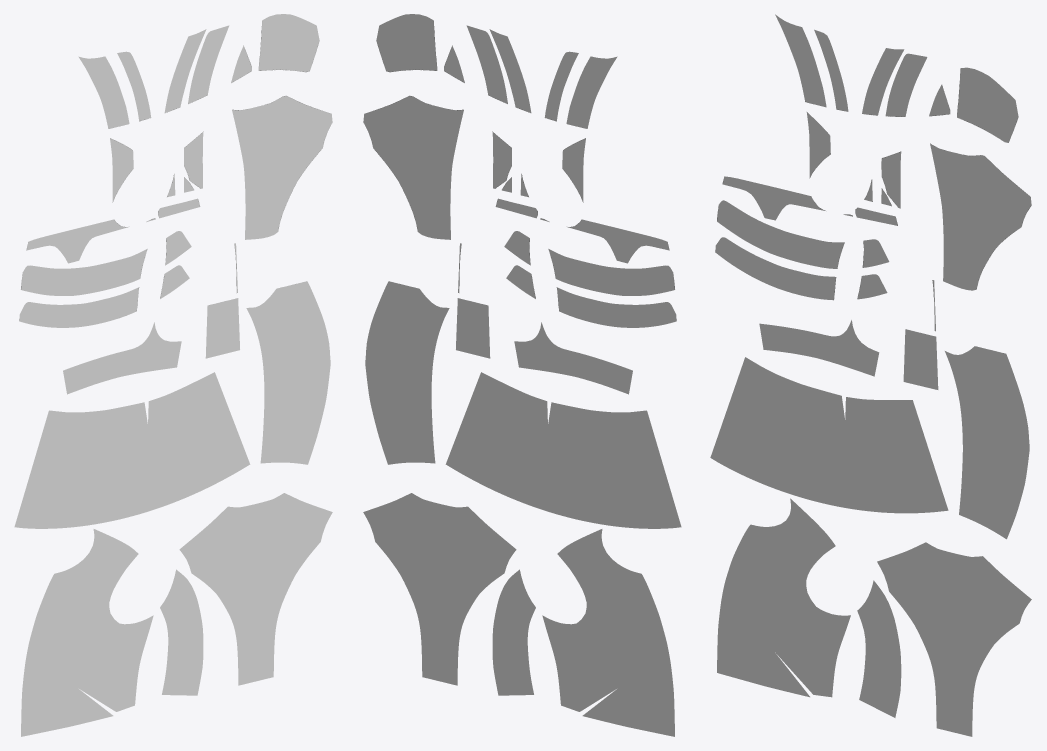
3 renders of one model, left to right at view 1: azimuth 30°, elevation 25°; view 2: azimuth 150°, elevation 25°; view 3: azimuth 330°, elevation 25°, orthographic.
Parts seen in each view (by area): view 1: Pattern_88784, Pattern_67253, Pattern_81361, Pattern_96122, Pattern_91243, Pattern_78007, Pattern_101766, Pattern_111948, Pattern_86260, Pattern_125434, Pattern_109039, Pattern_106605 (+3 smaller); view 2: Pattern_88784, Pattern_67253, Pattern_81361, Pattern_96122, Pattern_91243, Pattern_78007, Pattern_101766, Pattern_111948, Pattern_86260, Pattern_125434, Pattern_109039, Pattern_106605 (+3 smaller); view 3: Pattern_88784, Pattern_67253, Pattern_81361, Pattern_96122, Pattern_91243, Pattern_78007, Pattern_101766, Pattern_111948, Pattern_86260, Pattern_125434, Pattern_109039, Pattern_106605 (+3 smaller).
Boxes of the visible parts, x1=… form: Pattern_88784: x1=14, y1=372, x2=250, y2=528; Pattern_67253: x1=21, y1=529, x2=153, y2=736; Pattern_81361: x1=179, y1=493, x2=332, y2=685; Pattern_96122: x1=231, y1=14, x2=332, y2=239; Pattern_91243: x1=246, y1=281, x2=330, y2=464; Pattern_78007: x1=160, y1=569, x2=203, y2=695; Pattern_101766: x1=21, y1=231, x2=191, y2=295; Pattern_111948: x1=19, y1=265, x2=189, y2=327; Pattern_86260: x1=63, y1=322, x2=181, y2=394; Pattern_125434: x1=78, y1=56, x2=133, y2=202; Pattern_109039: x1=184, y1=25, x2=229, y2=192; Pattern_106605: x1=26, y1=198, x2=200, y2=263; Pattern_88784: x1=445, y1=372, x2=681, y2=528; Pattern_67253: x1=542, y1=529, x2=674, y2=736; Pattern_81361: x1=363, y1=493, x2=516, y2=685; Pattern_96122: x1=363, y1=14, x2=464, y2=239; Pattern_91243: x1=365, y1=281, x2=449, y2=464; Pattern_78007: x1=492, y1=569, x2=535, y2=695; Pattern_101766: x1=504, y1=231, x2=674, y2=295; Pattern_111948: x1=506, y1=265, x2=676, y2=327; Pattern_86260: x1=514, y1=322, x2=632, y2=394; Pattern_125434: x1=562, y1=56, x2=617, y2=202; Pattern_109039: x1=466, y1=25, x2=511, y2=192; Pattern_106605: x1=495, y1=198, x2=669, y2=263; Pattern_88784: x1=710, y1=357, x2=948, y2=513; Pattern_67253: x1=717, y1=498, x2=850, y2=697; Pattern_81361: x1=877, y1=542, x2=1031, y2=736; Pattern_96122: x1=929, y1=67, x2=1031, y2=290; Pattern_91243: x1=945, y1=346, x2=1029, y2=539; Pattern_78007: x1=857, y1=580, x2=901, y2=717; Pattern_101766: x1=717, y1=200, x2=889, y2=268; Pattern_111948: x1=715, y1=237, x2=887, y2=300; Pattern_86260: x1=759, y1=320, x2=879, y2=376; Pattern_125434: x1=775, y1=14, x2=830, y2=178; Pattern_109039: x1=881, y1=53, x2=927, y2=208; Pattern_106605: x1=722, y1=176, x2=897, y2=225.
Size of the model in its own units: 846 by 1693 by 7.63e-05.
Materials: 1 (1 with a texture image).
